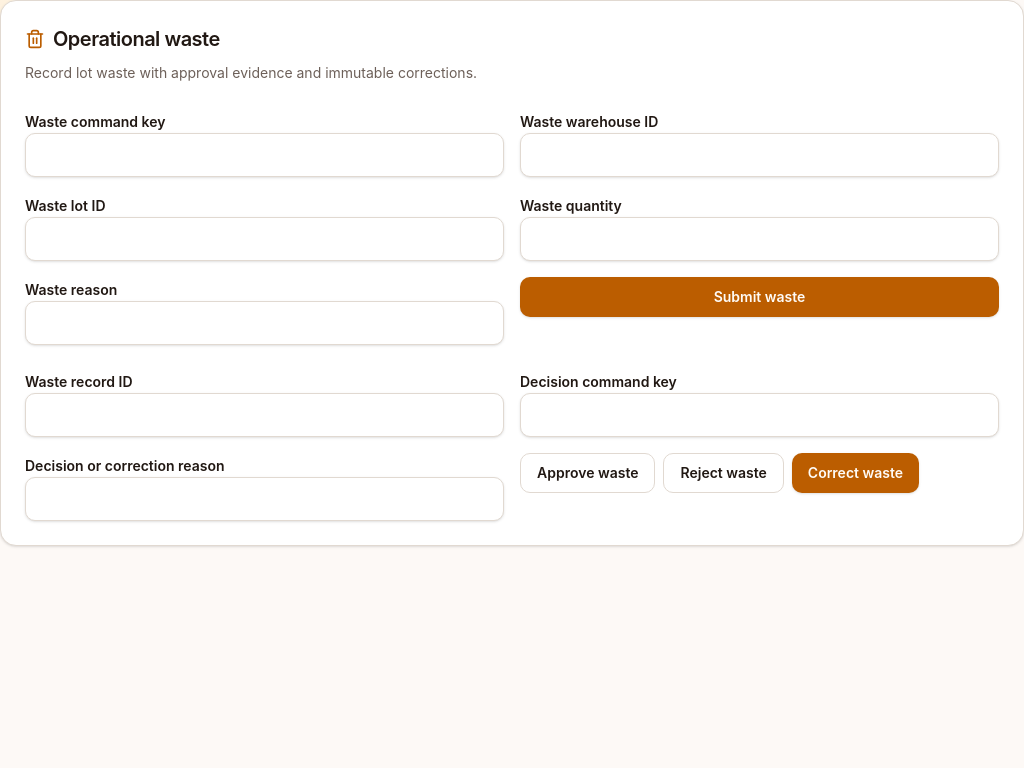
Test: operational waste › shows pending approval without losing evidence
Type "cmd" into the field labelled "Waste command key" at coordinates (264, 155), box [25,133,504,177]
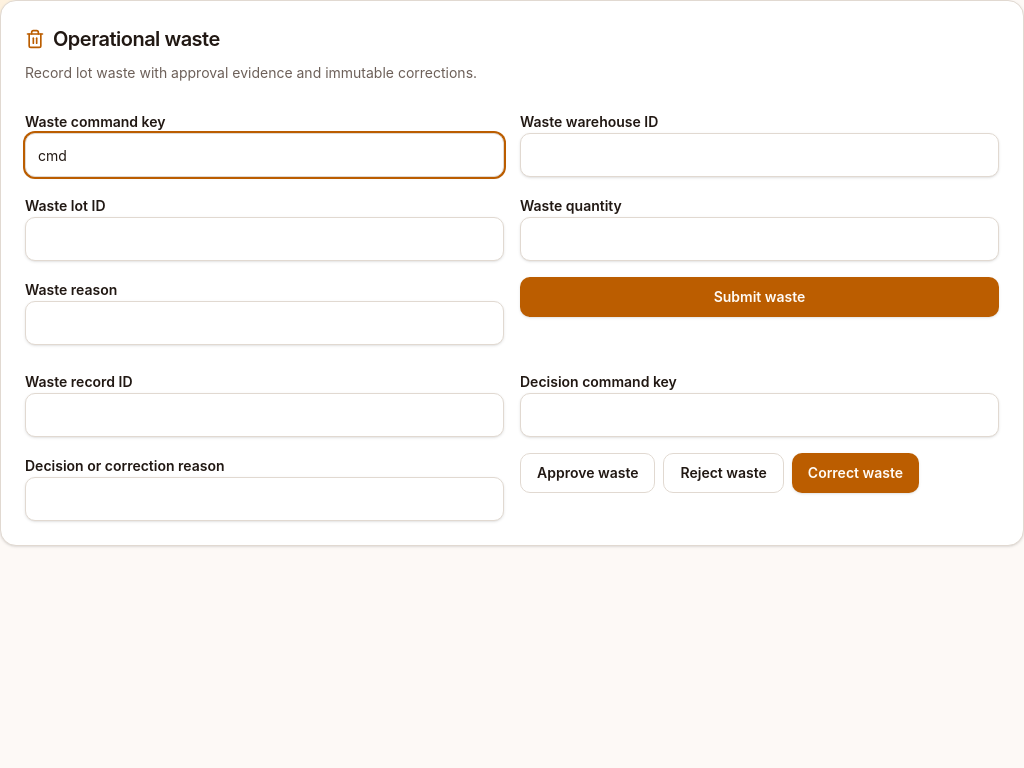
Type "wh" into the field labelled "Waste warehouse ID" at coordinates (760, 155), box [520,133,999,177]
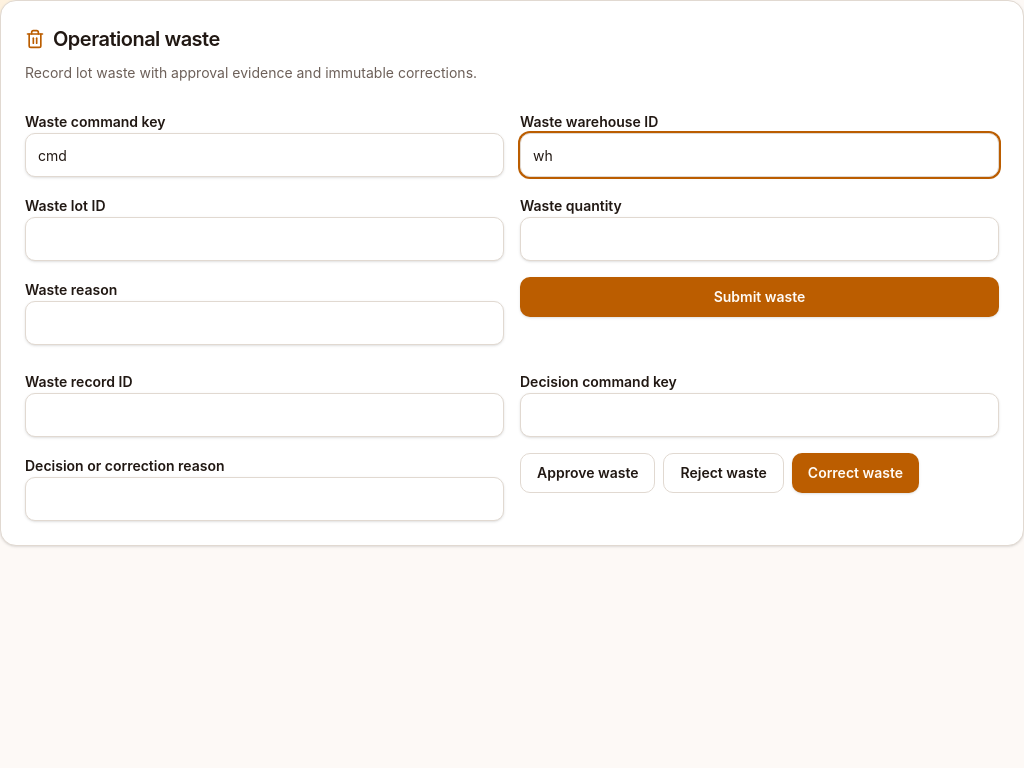
Type "lot" into the field labelled "Waste lot ID" at coordinates (264, 239), box [25,217,504,261]
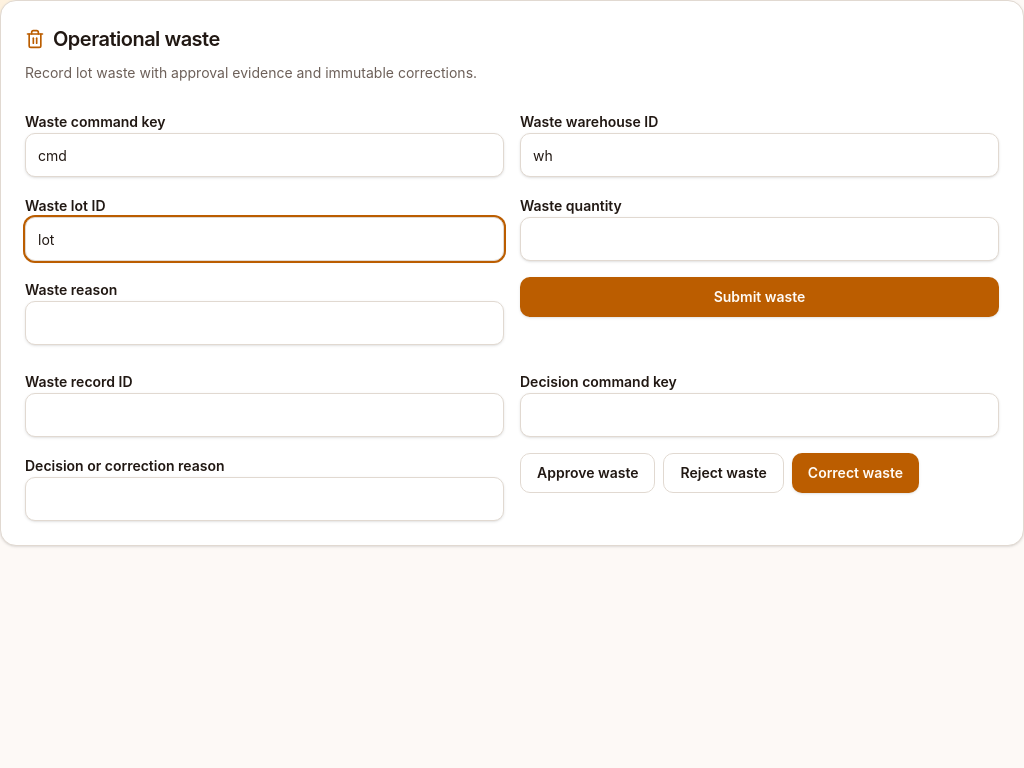
Type "4" into the field labelled "Waste quantity" at coordinates (760, 239), box [520,217,999,261]
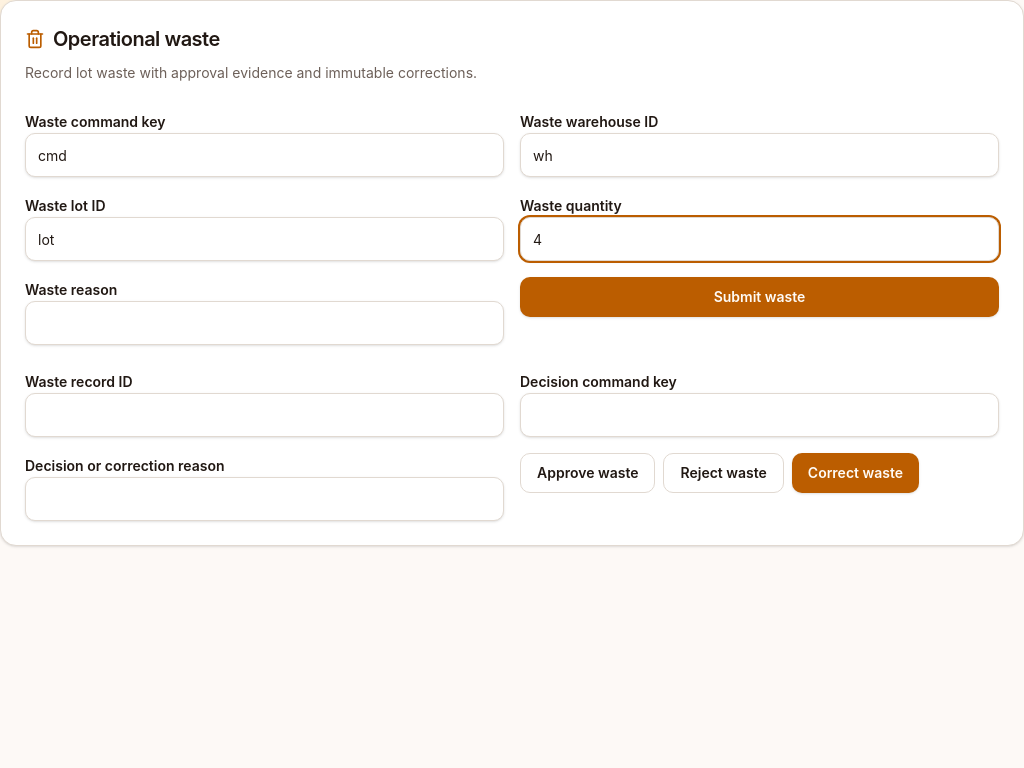
Type "damage" into the field labelled "Waste reason" at coordinates (264, 323), box [25,301,504,345]
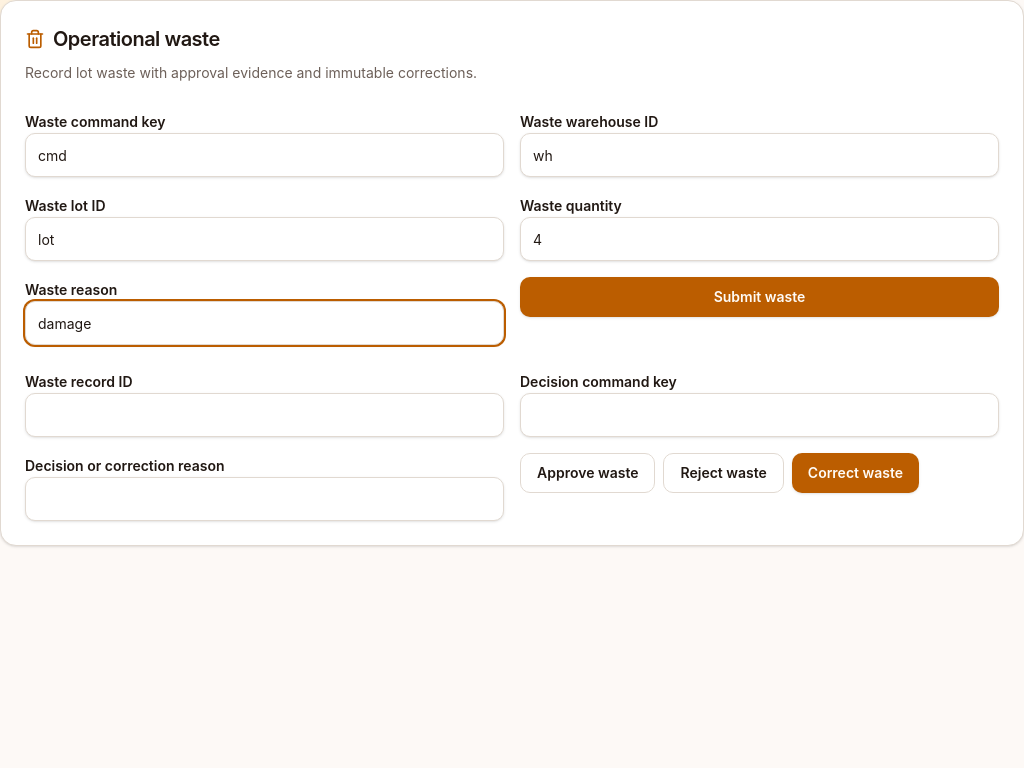
Click the button "Submit waste" at coordinates (760, 297), box [520,277,999,317]
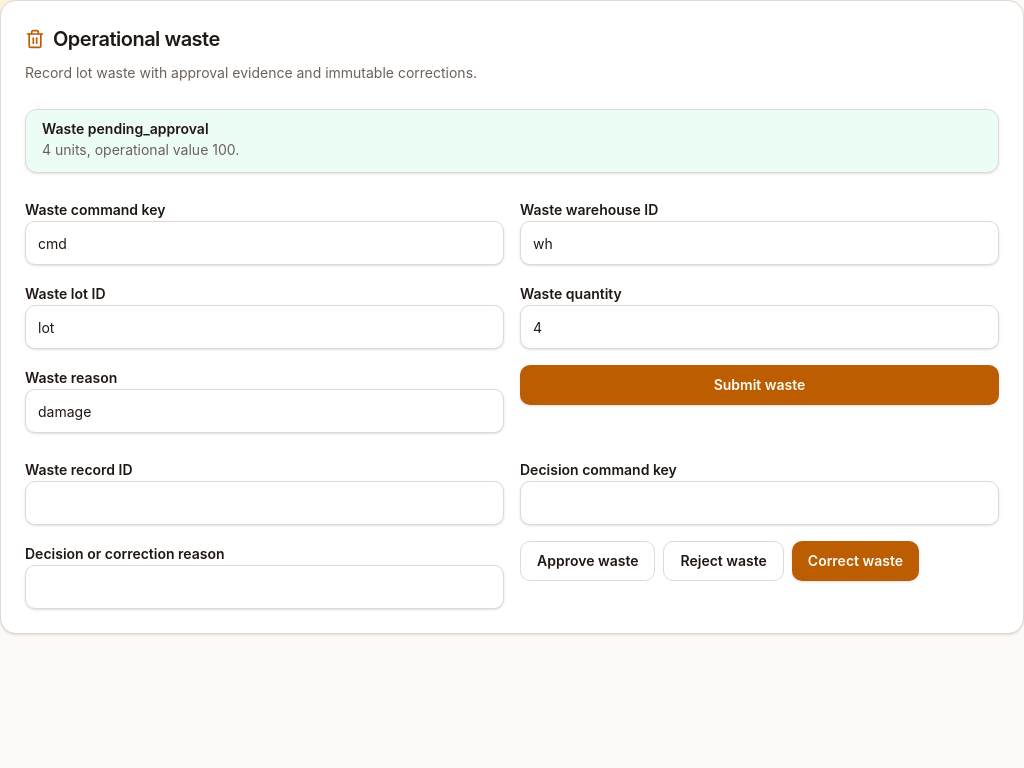
Now the heading "Waste pending_approval" is shown, box [42,120,209,137]
